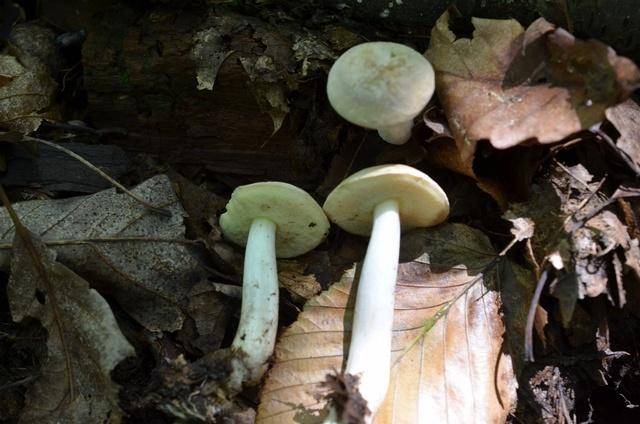Edible Mushroom: (321, 162, 450, 421), (216, 179, 330, 394), (325, 39, 436, 145)
